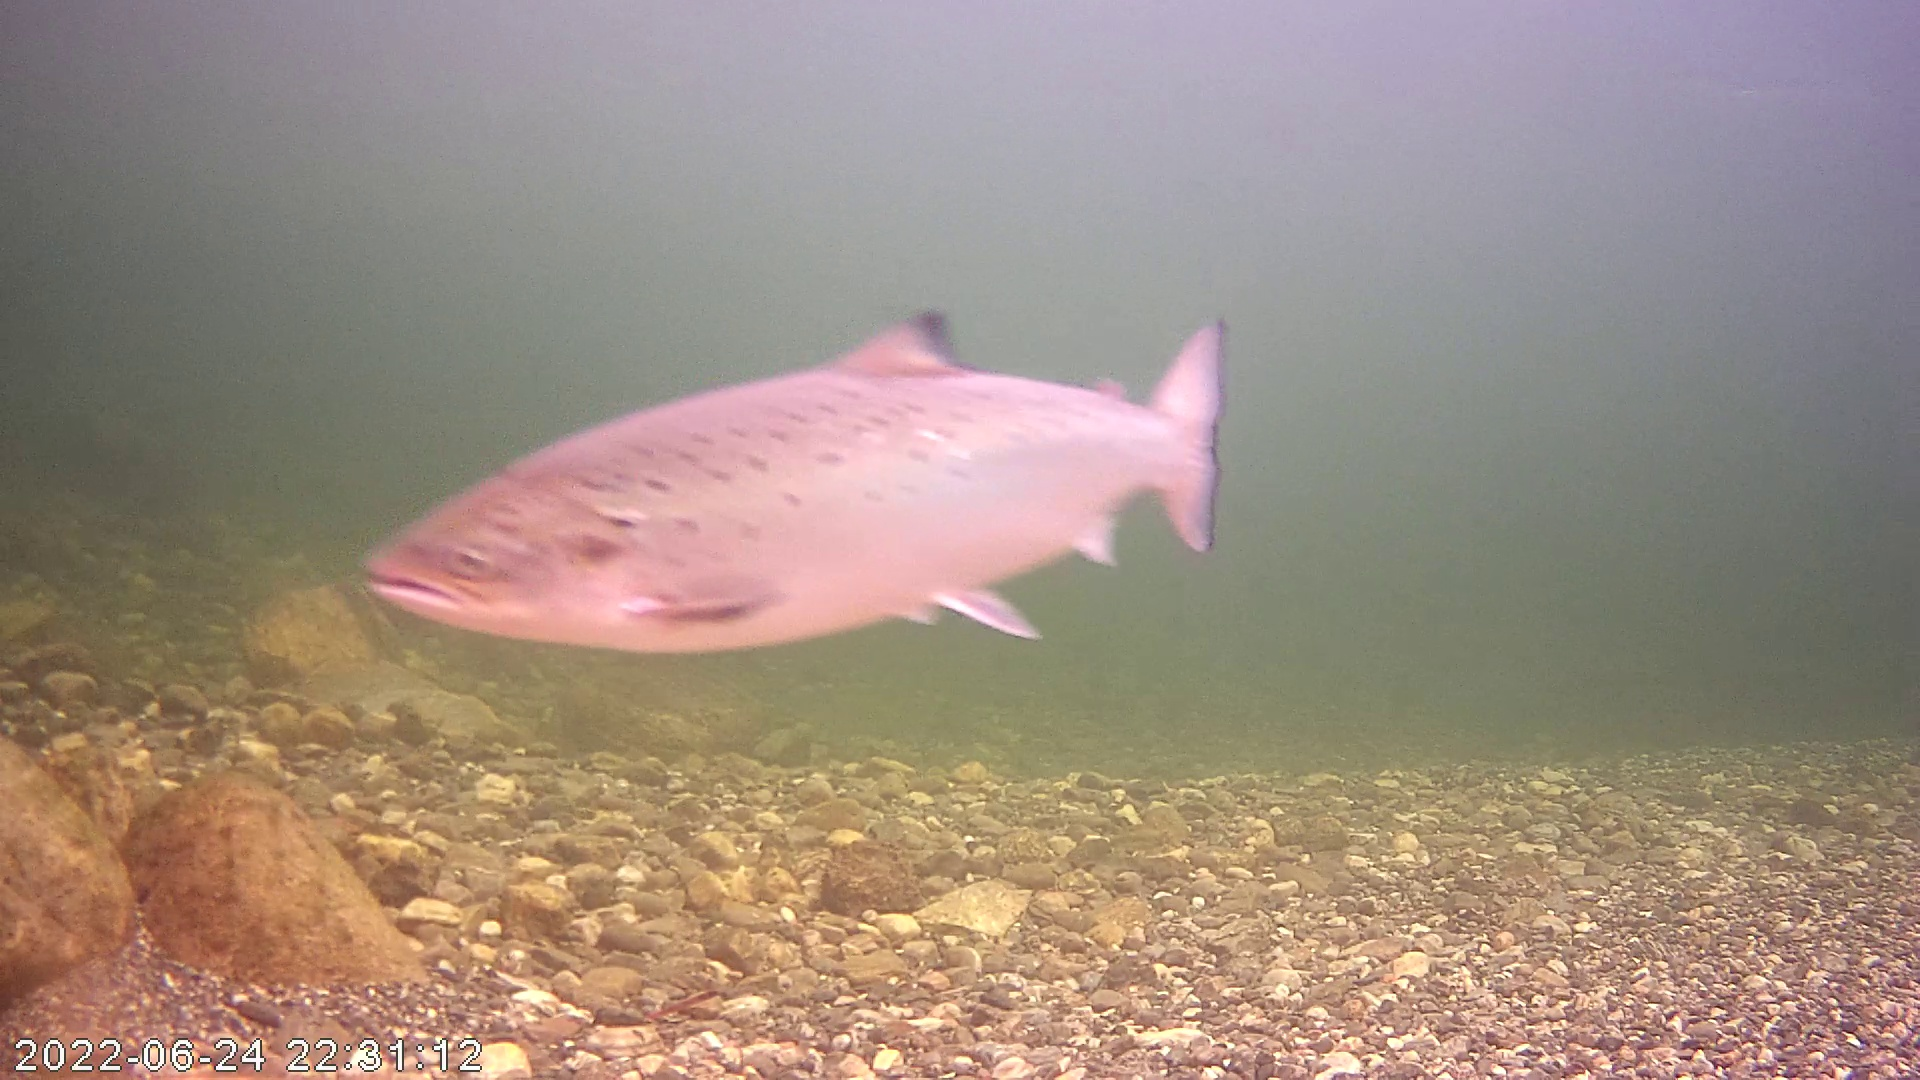salmon: (357, 307, 1228, 661)
